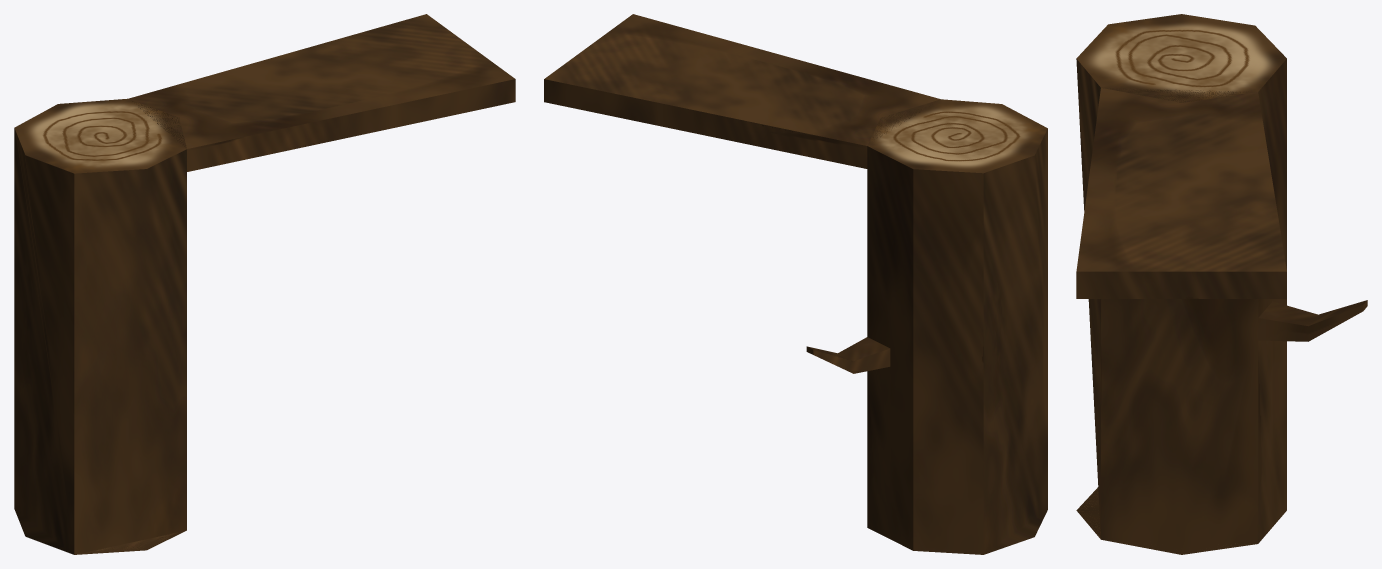
Rendered from log between checkpoint and tree with hole.fbx.
The picture shows the model from 3 angles, left to right: view 1: azimuth 30°, elevation 25°; view 2: azimuth 150°, elevation 25°; view 3: azimuth 270°, elevation 25°; orthographic projection. The views are drawn at different scales.
Parts seen in each view (by area): view 1: Cube.002; view 2: Cube.002; view 3: Cube.002.
Boxes of the visible parts, box(x1,y1,x2,y2) form: Cube.002: box(14, 14, 515, 554); Cube.002: box(544, 14, 1047, 554); Cube.002: box(1076, 14, 1367, 554).
Bounding box in the file's own units: 579 × 473 × 276.
